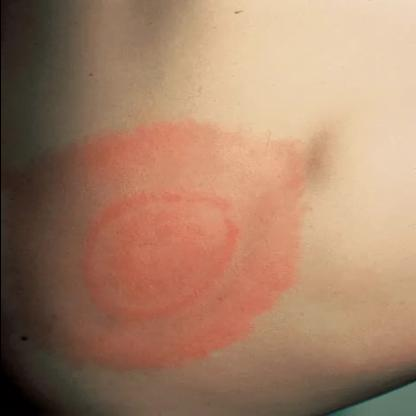Tick: (1, 123, 315, 373)
